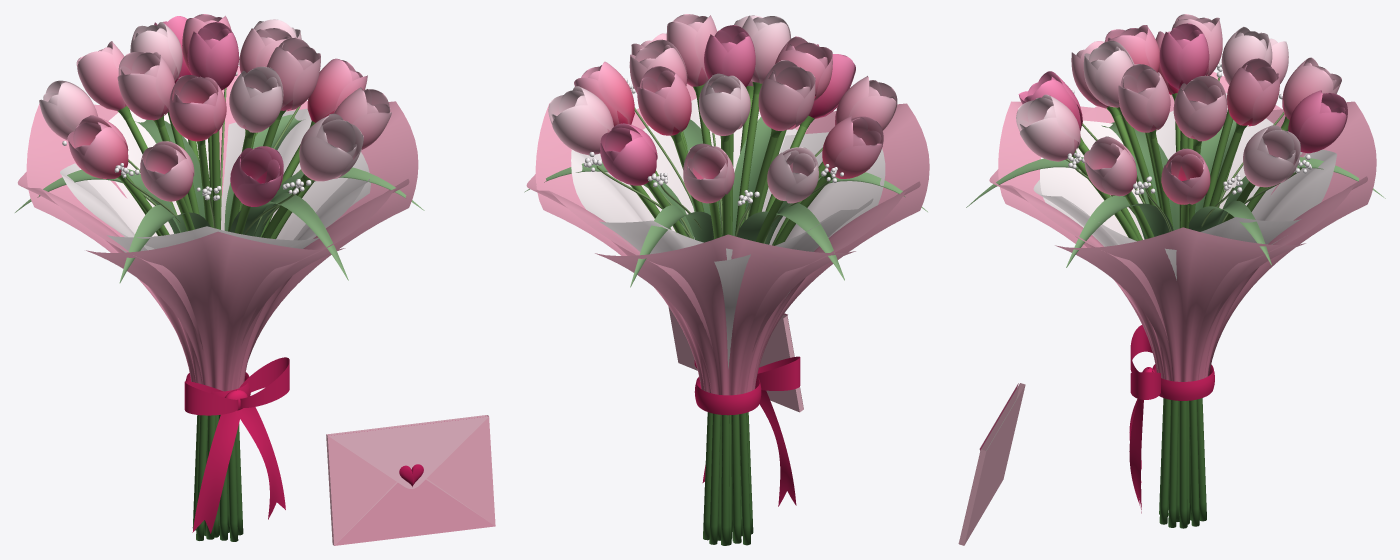
The model's file is bouquet.glb.
3 views of the same model, side by side, from view 1: azimuth 30°, elevation 25°; view 2: azimuth 150°, elevation 25°; view 3: azimuth 270°, elevation 25° (orthographic). The views are drawn at different scales.
Parts seen in each view (by area): view 1: PaperOuter, EnvelopeBody, PaperInner, Stems, Ribbon, Leaves, EnvelopeFlap, Tulip_17, Tulip_05, Tulip_06, Tulip_07, Tulip_14 (+12 smaller); view 2: PaperOuter, PaperInner, Stems, Leaves, Ribbon, Tulip_05, Tulip_10, Tulip_03, Tulip_14, Tulip_11, Tulip_04, Tulip_12 (+11 smaller); view 3: PaperOuter, Stems, PaperInner, Leaves, Ribbon, EnvelopeBody, Tulip_17, Tulip_08, Tulip_02, Tulip_03, Tulip_10, Tulip_11 (+12 smaller).
Boxes of the visible parts, left/top/right/bottom form: PaperOuter: left=17, top=66, right=418, bottom=391; EnvelopeBody: left=326, top=415, right=495, bottom=545; PaperInner: left=60, top=108, right=370, bottom=252; Stems: left=121, top=112, right=313, bottom=541; Ribbon: left=184, top=357, right=289, bottom=533; Leaves: left=15, top=114, right=424, bottom=283; EnvelopeFlap: left=328, top=416, right=488, bottom=488; Tulip_17: left=299, top=113, right=363, bottom=181; Tulip_05: left=117, top=52, right=174, bottom=127; Tulip_06: left=169, top=75, right=226, bottom=145; Tulip_07: left=229, top=66, right=283, bottom=138; Tulip_14: left=67, top=115, right=128, bottom=180; PaperOuter: left=526, top=84, right=929, bottom=395; PaperInner: left=571, top=98, right=885, bottom=368; Stems: left=630, top=93, right=826, bottom=545; Leaves: left=524, top=117, right=927, bottom=287; Ribbon: left=694, top=356, right=800, bottom=506; Tulip_05: left=758, top=60, right=815, bottom=137; Tulip_10: left=548, top=86, right=613, bottom=155; Tulip_03: left=637, top=66, right=691, bottom=142; Tulip_14: left=822, top=116, right=883, bottom=179; Tulip_11: left=600, top=123, right=657, bottom=185; Tulip_04: left=699, top=73, right=750, bottom=141; Tulip_12: left=683, top=143, right=734, bottom=203; PaperOuter: left=989, top=71, right=1376, bottom=381; Stems: left=1076, top=109, right=1285, bottom=528; PaperInner: left=1033, top=93, right=1336, bottom=280; Leaves: left=966, top=120, right=1385, bottom=267; Ribbon: left=1129, top=325, right=1214, bottom=513; EnvelopeBody: left=958, top=383, right=1025, bottom=545; Tulip_17: left=1016, top=94, right=1080, bottom=161; Tulip_08: left=1118, top=64, right=1170, bottom=139; Tulip_02: left=1173, top=75, right=1227, bottom=146; Tulip_03: left=1227, top=58, right=1279, bottom=133; Tulip_10: left=1243, top=125, right=1300, bottom=187; Tulip_11: left=1288, top=90, right=1347, bottom=153.
Size of the model in its own units: 0.416 by 0.5649 by 0.448.
